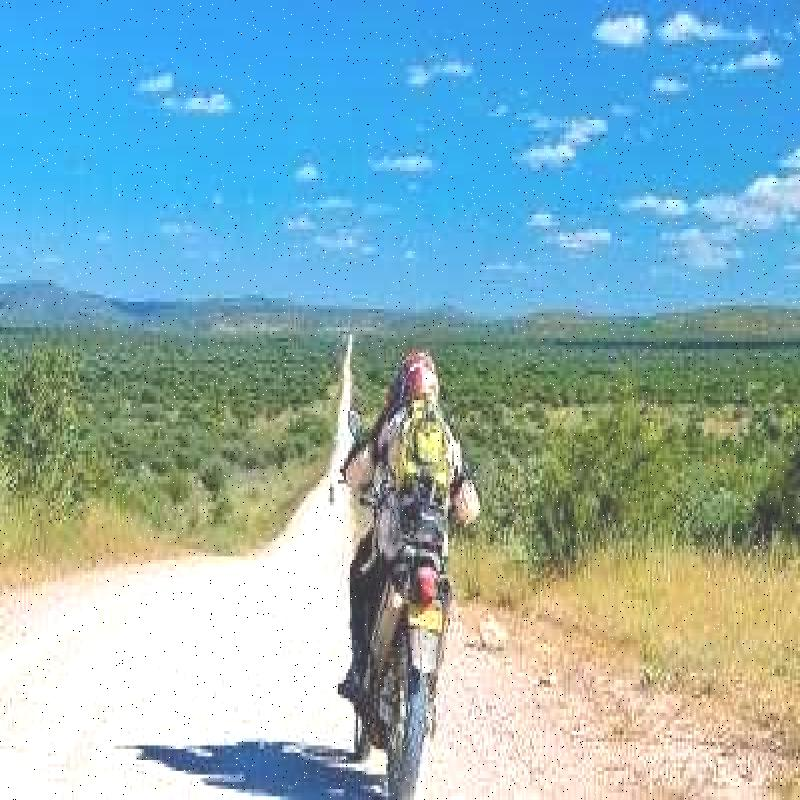bike: (346, 457, 469, 772)
